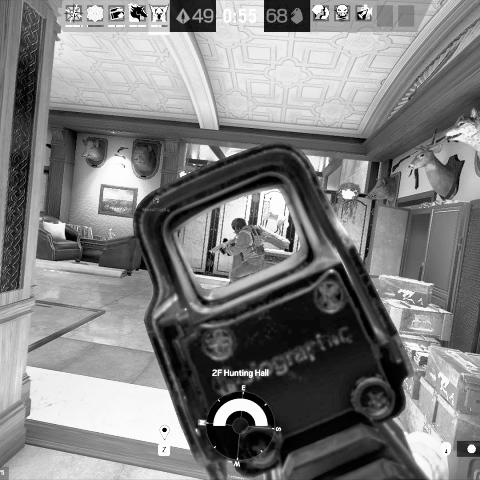Character: (208, 217, 270, 280)
Friend_label: (214, 195, 273, 219), (142, 197, 170, 213)
Head: (230, 217, 247, 234)
